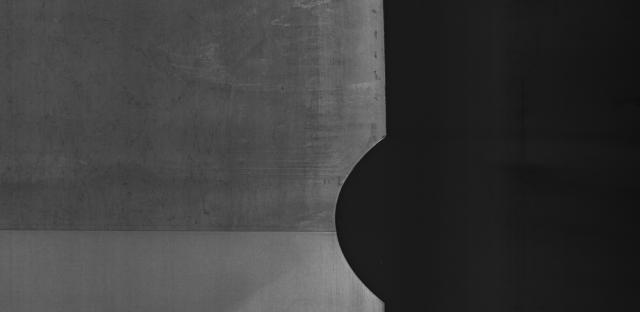crescent_gap: (324, 129, 409, 306)
welding_line: (1, 213, 353, 243)
